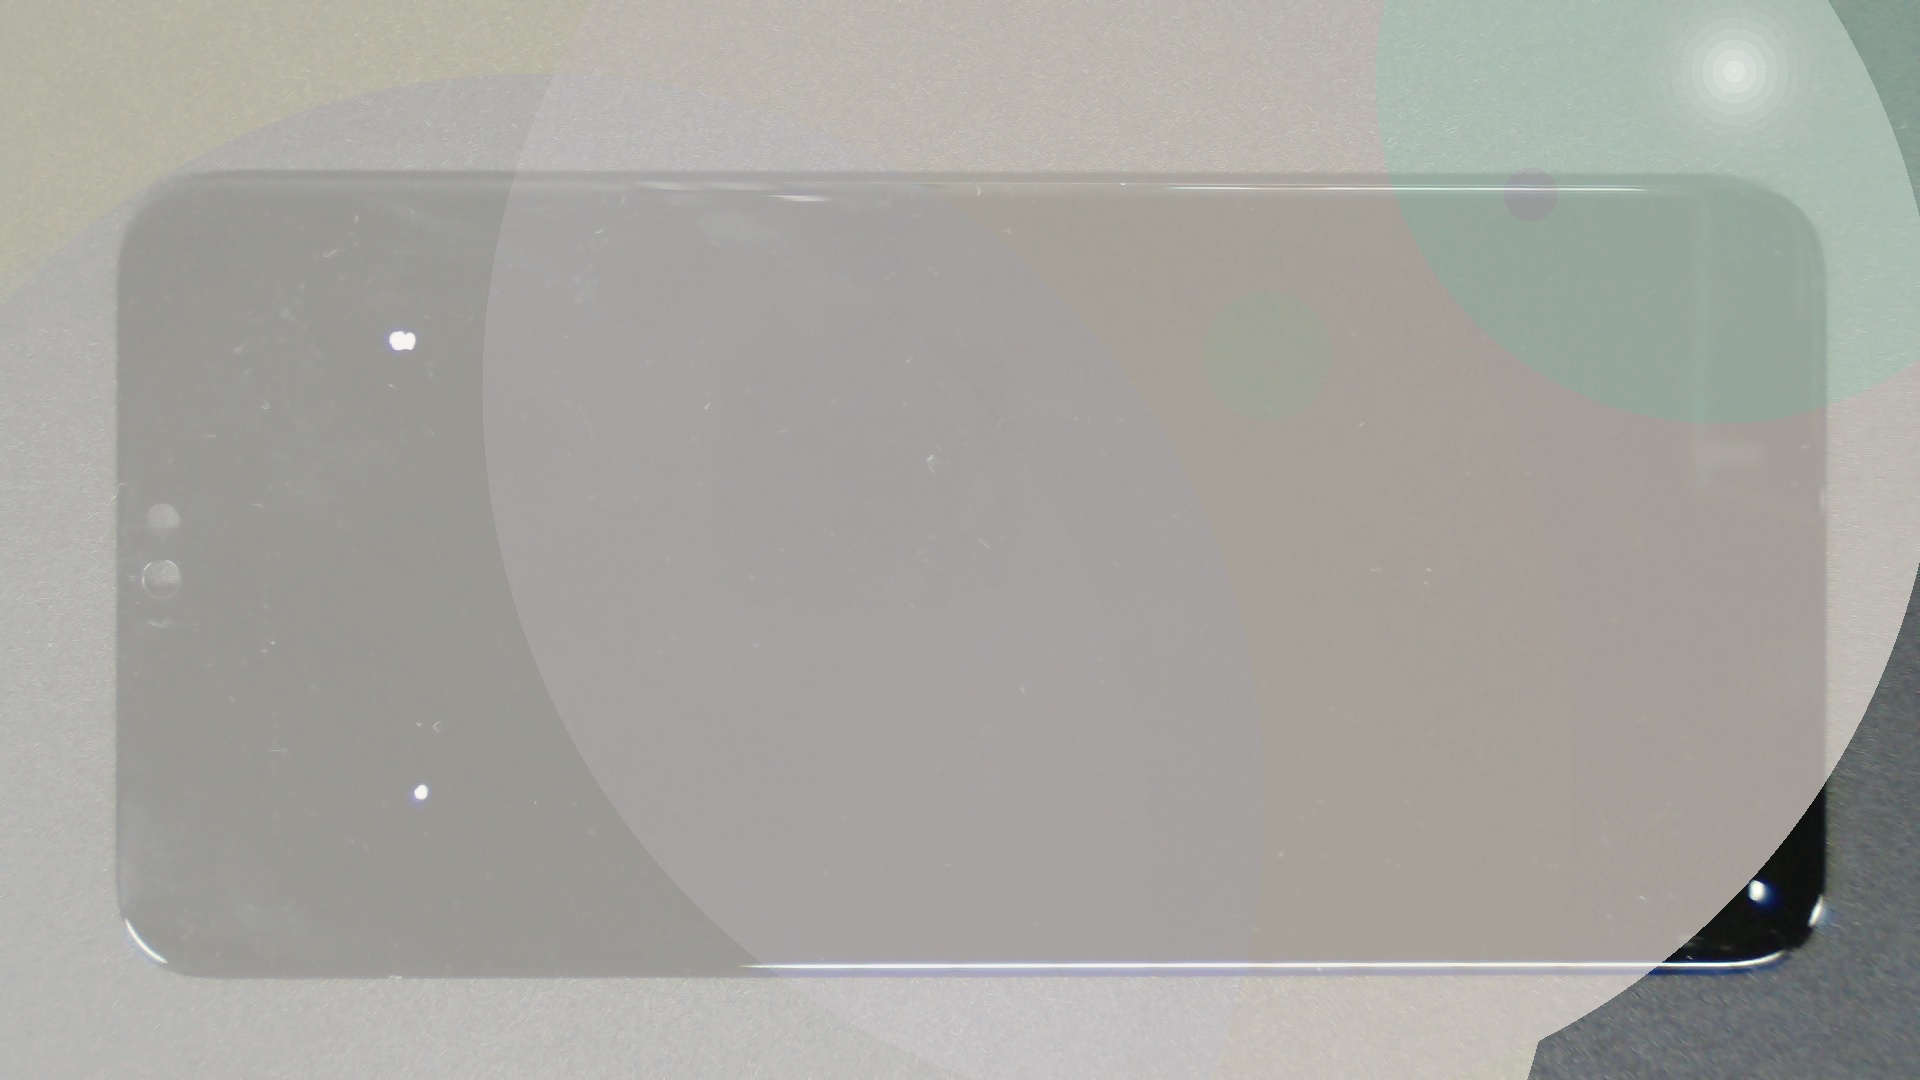oil: (876, 439, 1920, 1080), (212, 392, 634, 1080), (198, 164, 589, 496)
